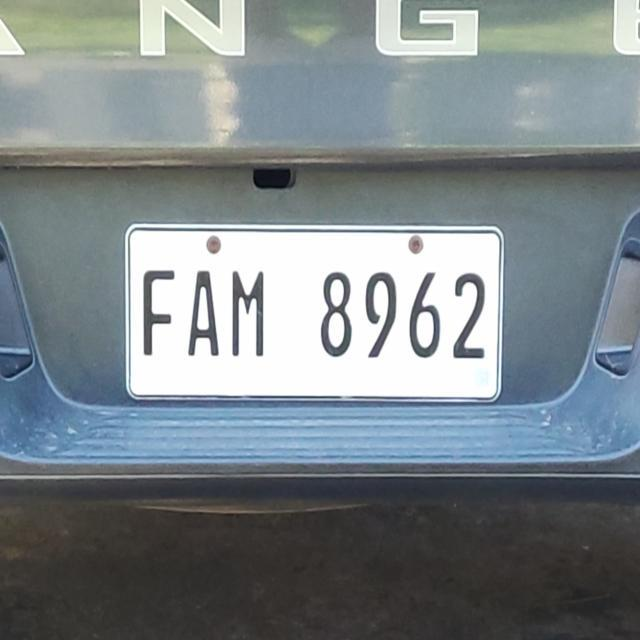LicensePlate: (121, 217, 506, 409)
